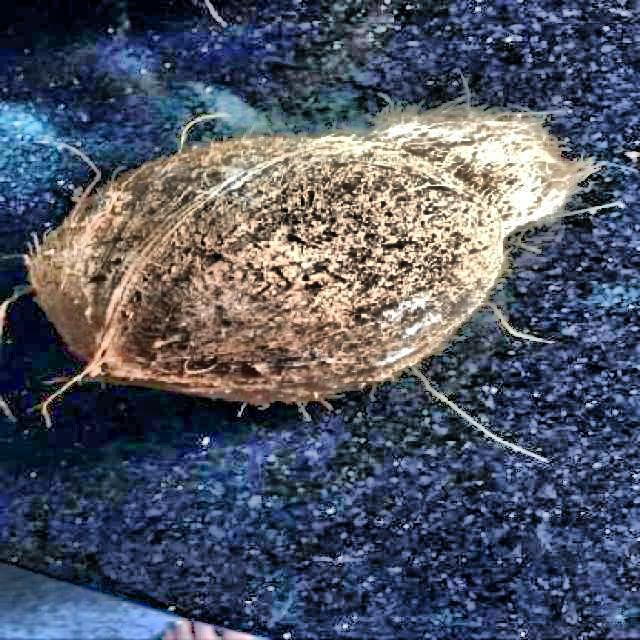good: (34, 107, 606, 395)
